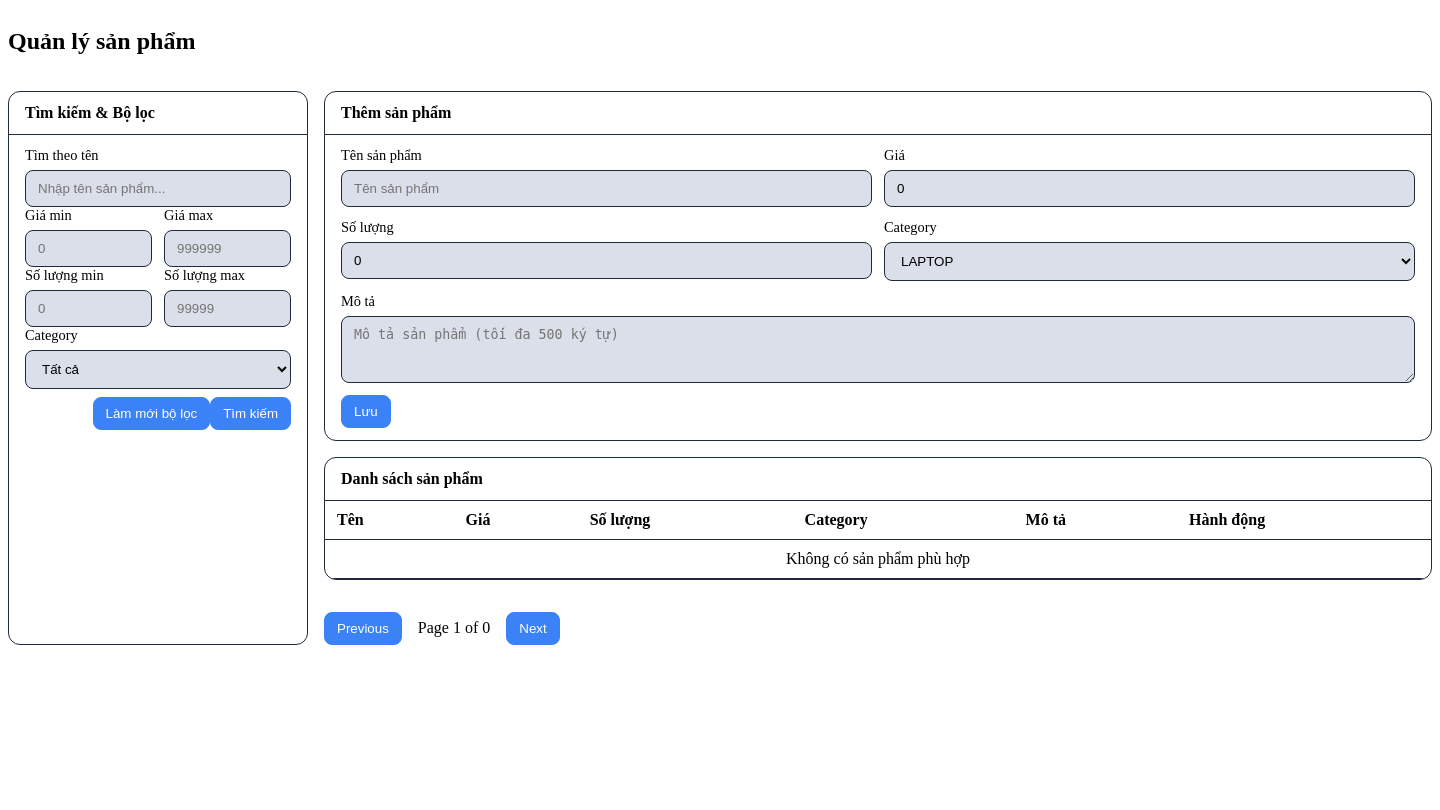
it: Product Component Integration Tests (Form -> List) › TC-INT-01: Tạo sản phẩm mới phải tự động cập nhật danh sách
Expected: the text "LapTop Asus" is not shown
# Tương tác: Nhập và Submit Form
Type "LapTop Asus" into the field with test id "name-input".
click(606, 188); type("LapTop Asus")  # box [341, 170, 872, 207]
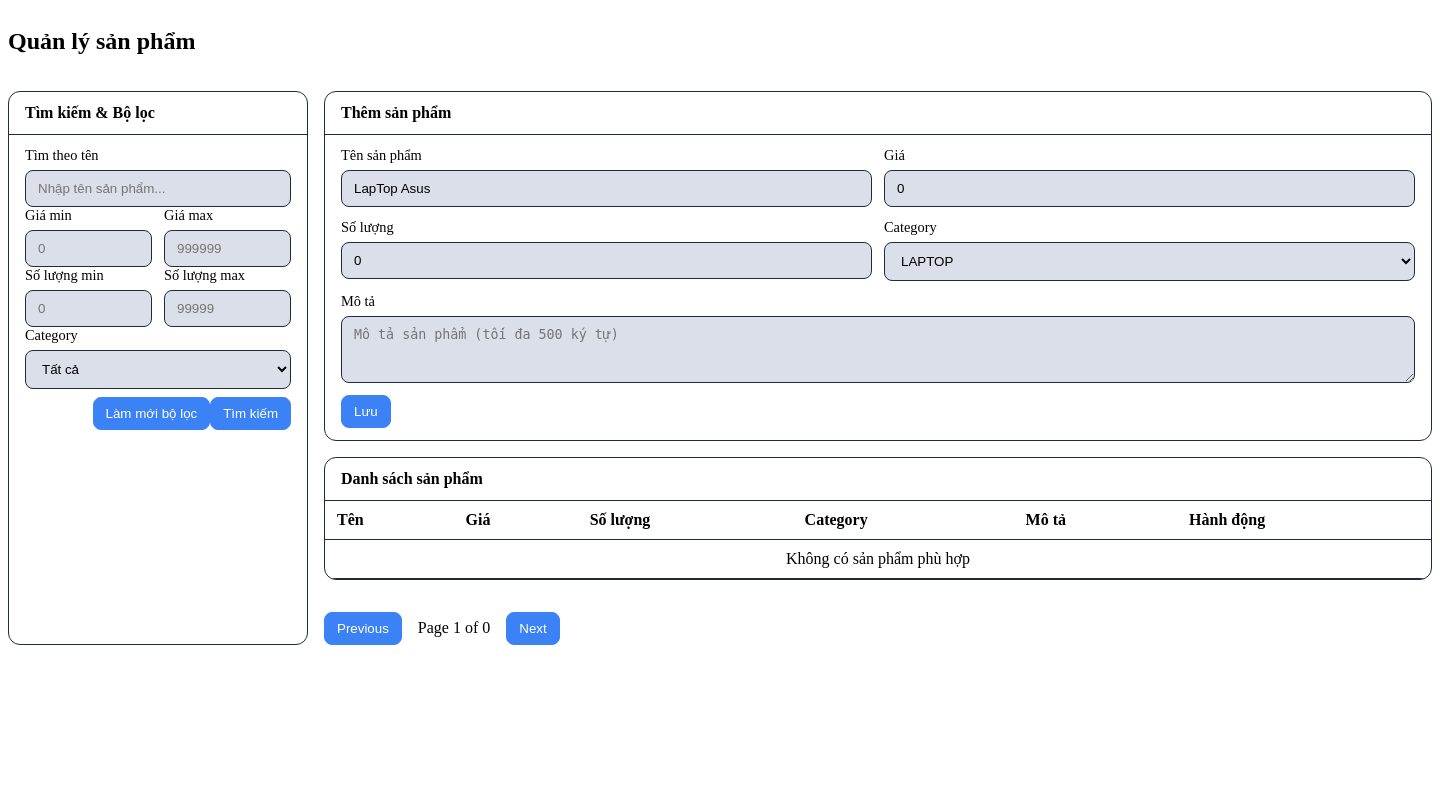
# ... (Nhập các trường hợp lệ khác) ...
Click the button with test id "submit-product-btn".
click(366, 411)  # box [341, 395, 391, 428]
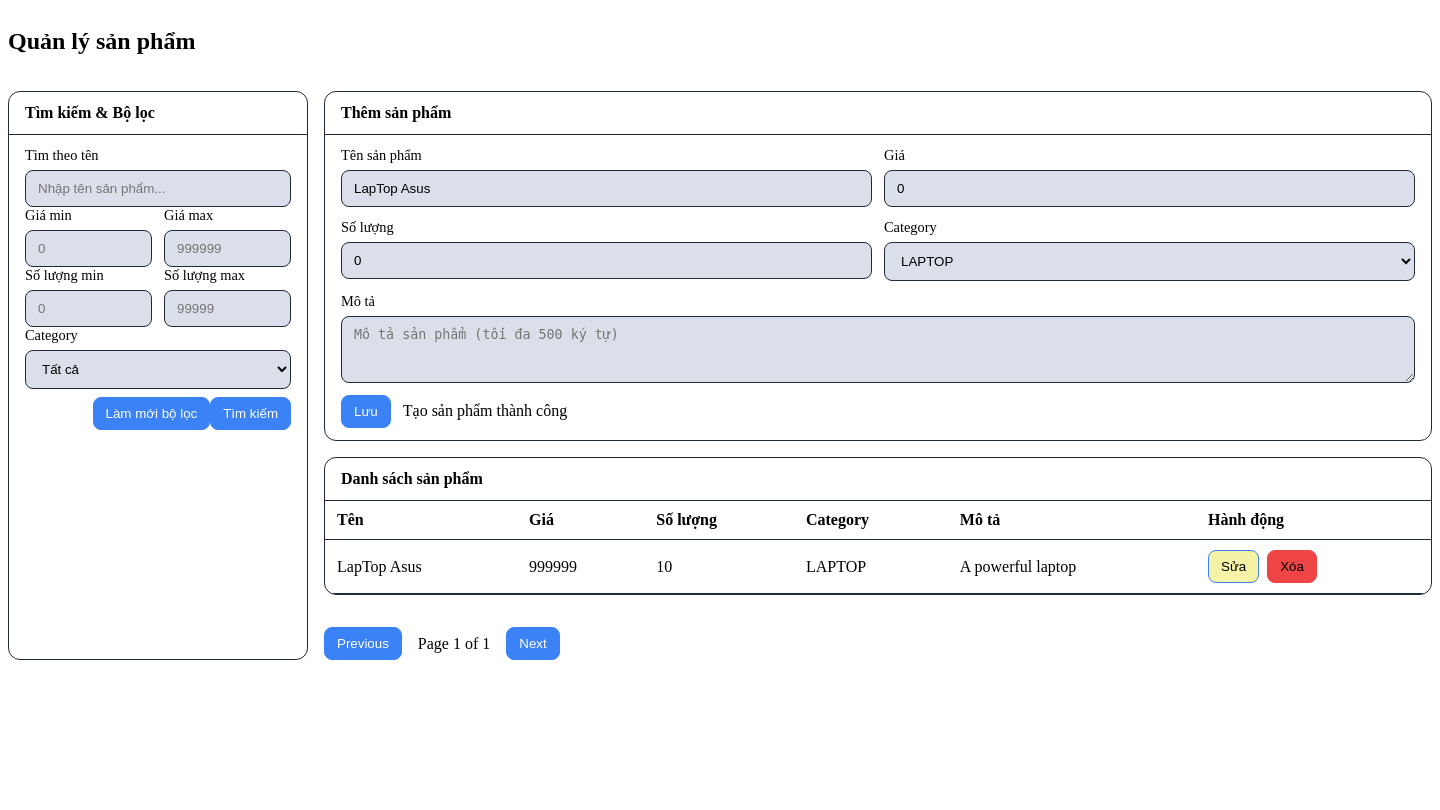
Expected: the text "LapTop Asus" is shown, [325, 539, 517, 594]
